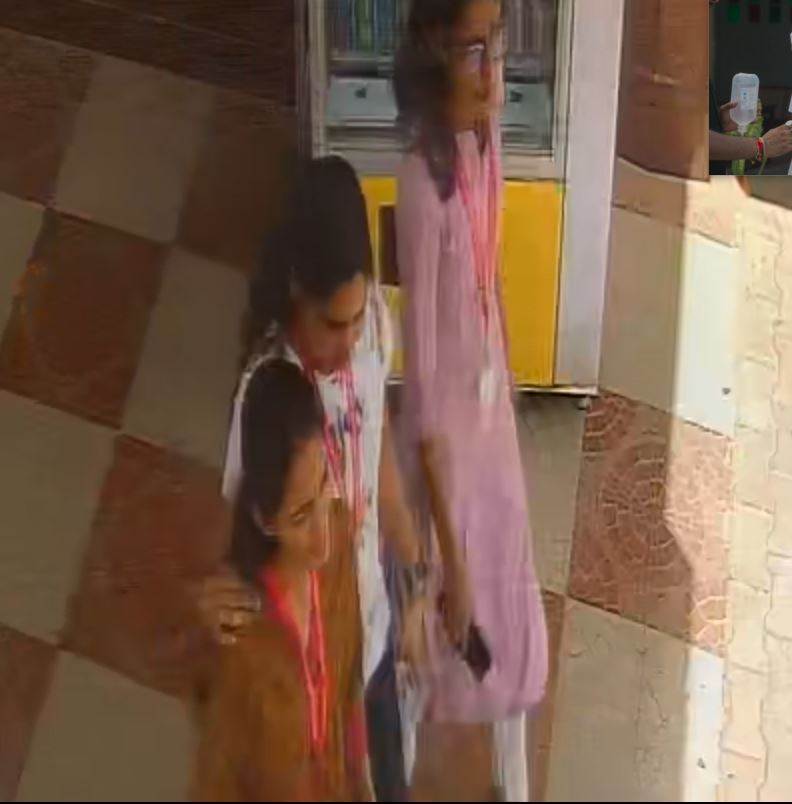intruder: (394, 1, 569, 804), (267, 163, 395, 759), (215, 367, 363, 804)
